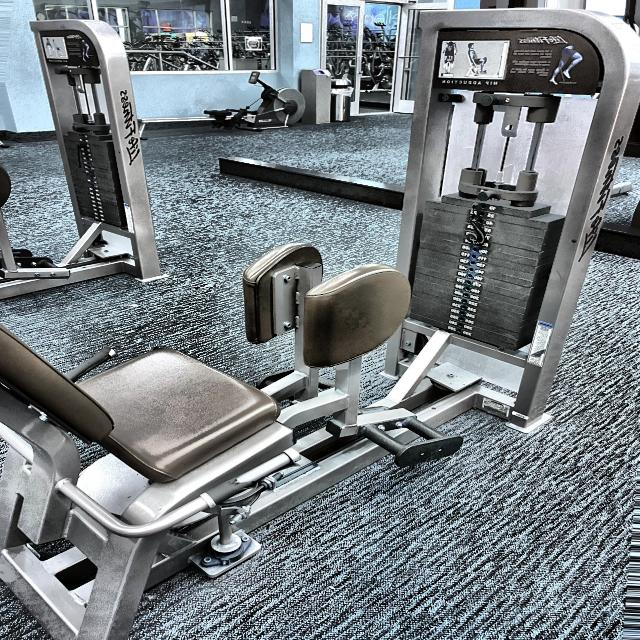hip_adduction_machine: (0, 227, 419, 628), (226, 218, 458, 514), (440, 36, 587, 90), (438, 76, 503, 89)
